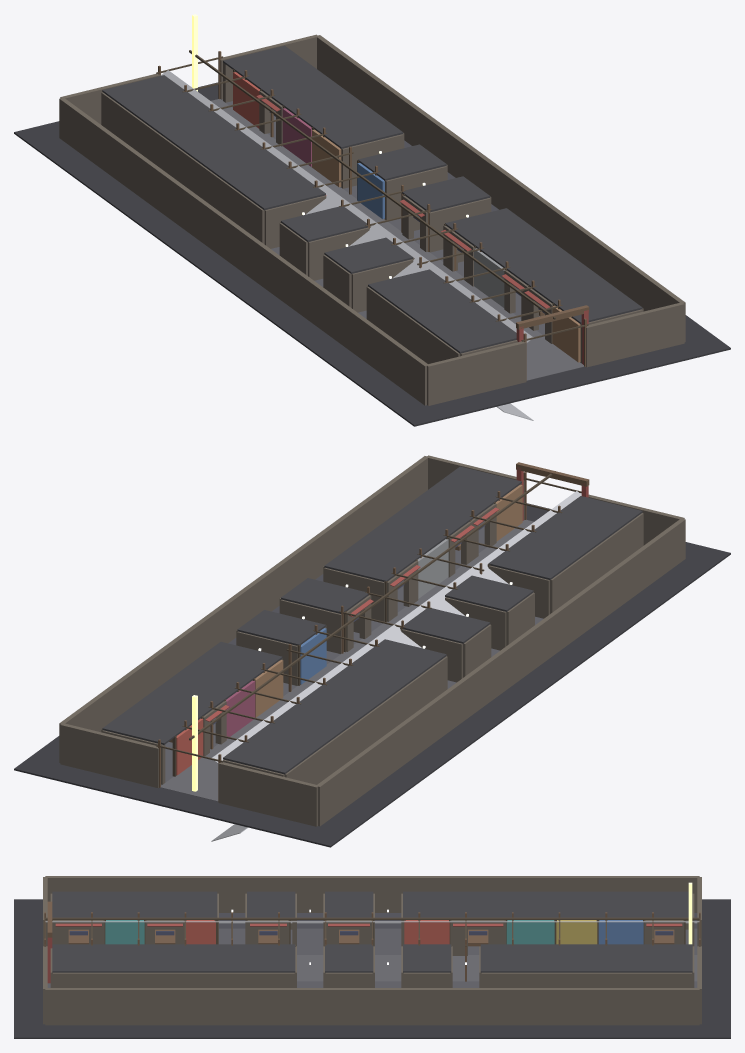
The model's file is prop_course_a.glb.
3 renders of one model, top to bottom at view 1: azimuth 30°, elevation 25°; view 2: azimuth 150°, elevation 25°; view 3: azimuth 270°, elevation 25°, orthographic. The views are drawn at different scales.
Parts seen in each view (by area): view 1: course_a; view 2: course_a; view 3: course_a.
Boxes of the visible parts, x1=… form: course_a: x1=14, y1=14, x2=730, y2=426; course_a: x1=14, y1=455, x2=730, y2=847; course_a: x1=14, y1=876, x2=730, y2=1038.
Bounding box in the file's own units: 42 × 17.3 × 92.
